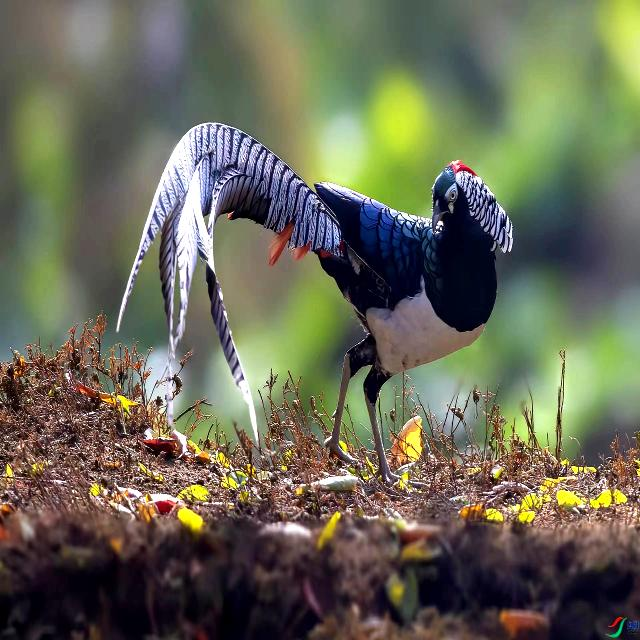Chrysolophus amherstiae: (121, 123, 340, 360)
